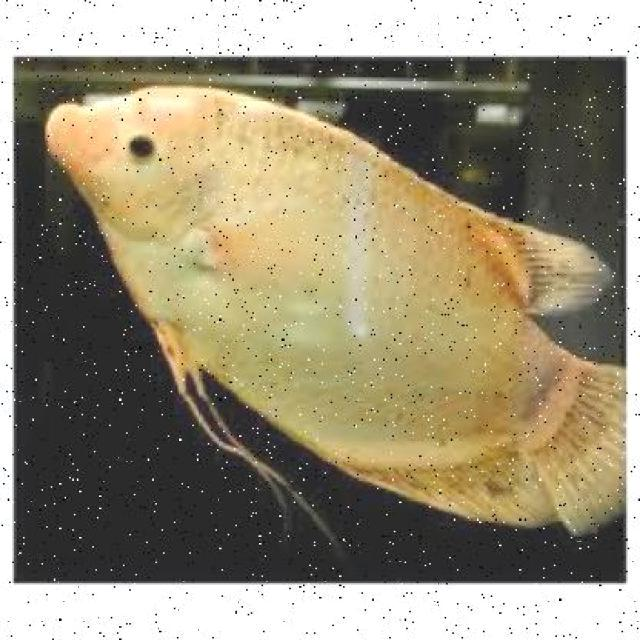gurame: (38, 78, 627, 531)
